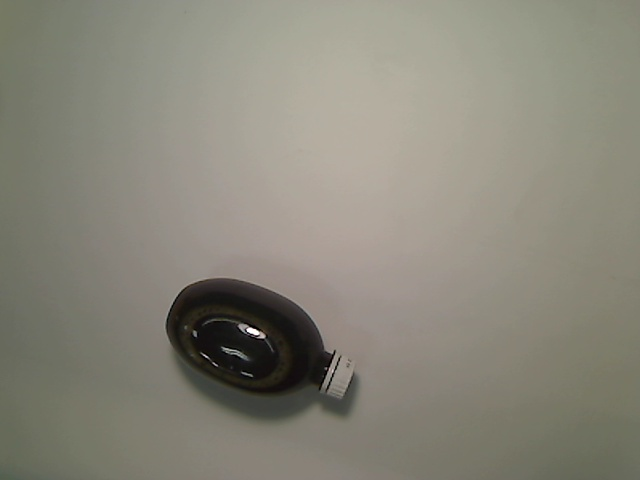plast_bottle: (163, 275, 358, 404)
